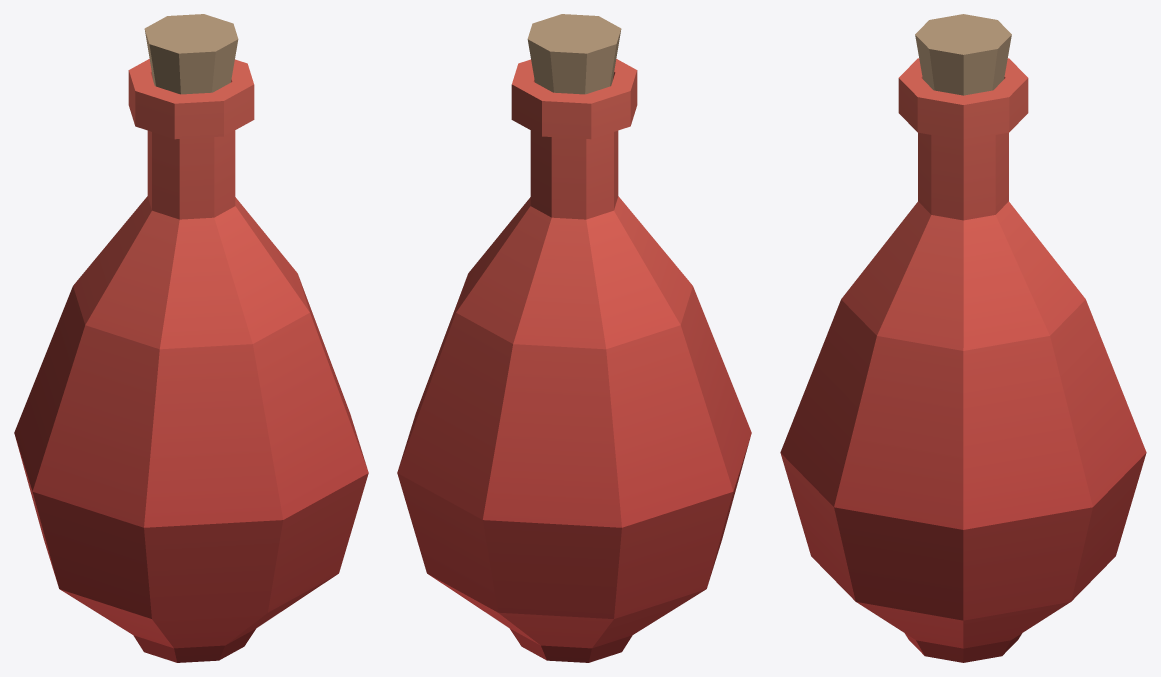
Rendered from Bottle_02.fbx.
3 renders of one model, left to right at view 1: azimuth 30°, elevation 25°; view 2: azimuth 150°, elevation 25°; view 3: azimuth 270°, elevation 25°, orthographic.
Parts seen in each view (by area): view 1: Bottle_02; view 2: Bottle_02; view 3: Bottle_02.
Part boxes in pixels (bbox=[...]): Bottle_02: bbox=[14, 14, 368, 662]; Bottle_02: bbox=[397, 14, 751, 662]; Bottle_02: bbox=[780, 14, 1146, 662].
Size of the model in its own units: 0.1827 by 0.3333 by 0.1827.
